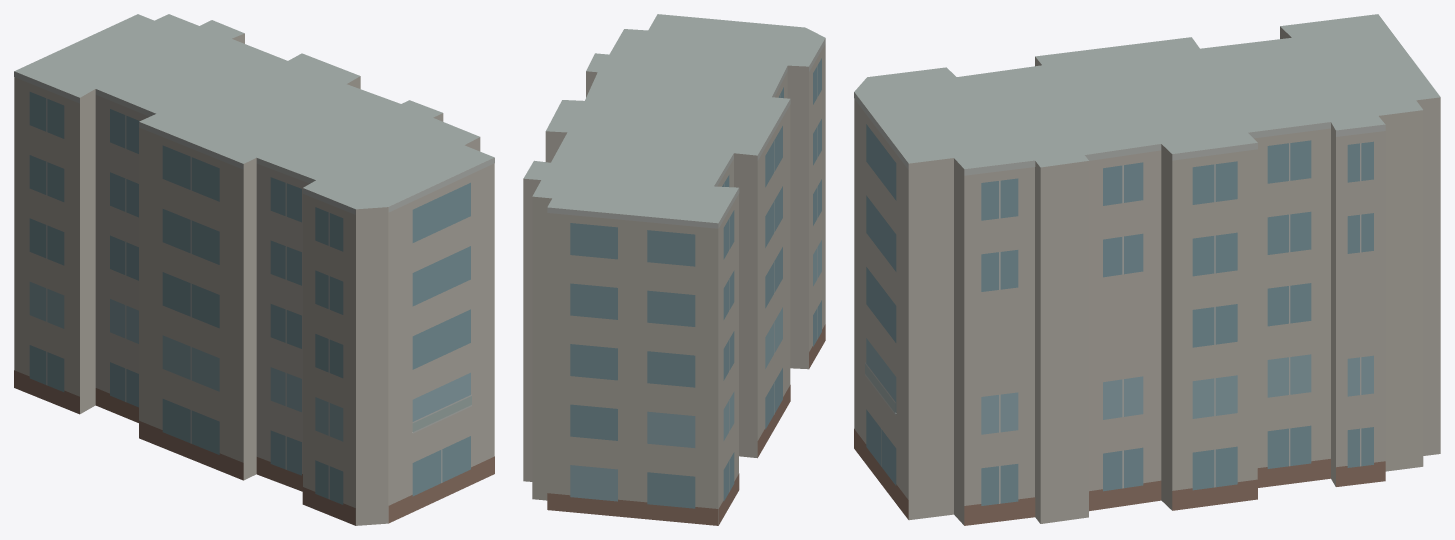
File: survey-upis-32750925.glb
3 views of the same model, side by side, from view 1: azimuth 30°, elevation 25°; view 2: azimuth 150°, elevation 25°; view 3: azimuth 270°, elevation 25° (orthographic). The views are drawn at different scales.
Visible parts, largest first — view 1: survey-upis-32750925.tmp; view 2: survey-upis-32750925.tmp; view 3: survey-upis-32750925.tmp.
Part boxes in pixels (box(x1,y1,x2,y2)): survey-upis-32750925.tmp: box(14, 14, 494, 525); survey-upis-32750925.tmp: box(523, 14, 825, 525); survey-upis-32750925.tmp: box(854, 14, 1440, 525).
Size of the model in its own units: 12.52 by 13.4 by 19.99.
